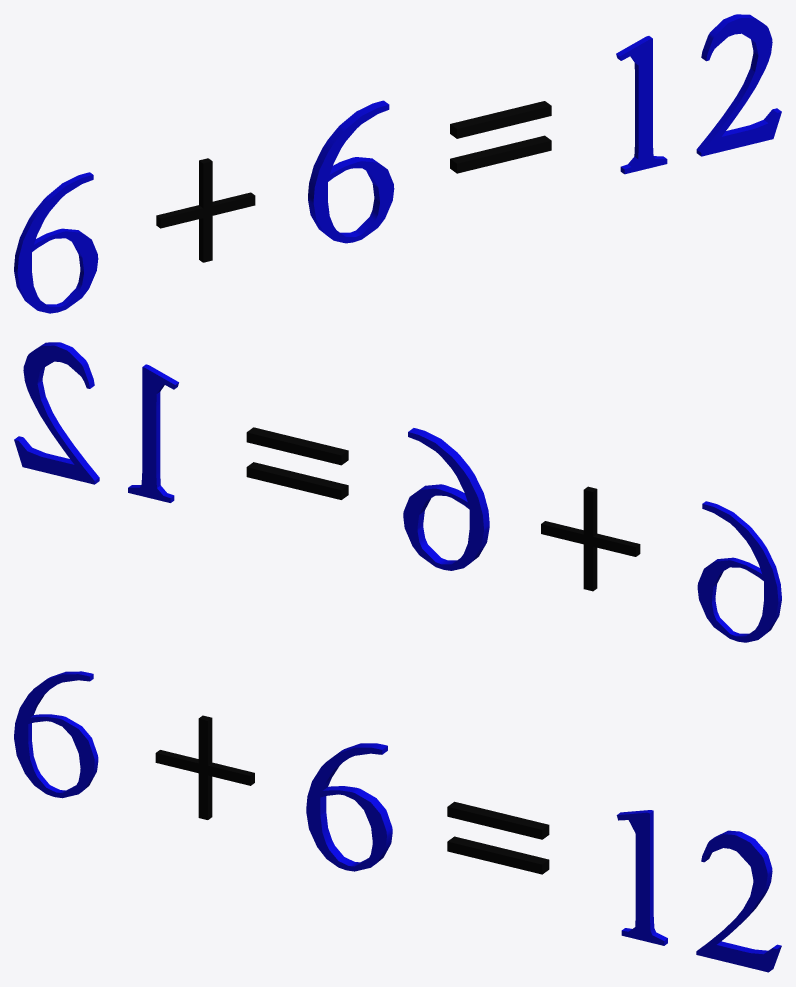
The model's file is carbon12Math.fbx.
3 views of the same model, one above another, from view 1: azimuth 30°, elevation 25°; view 2: azimuth 150°, elevation 25°; view 3: azimuth 330°, elevation 25° (orthographic).
Visible parts, largest first — view 1: Trim_Char_x_9_1, Trim_Char_x_12_1, Trim_Char_x_7_1, Trim_Char_x_10_1, Trim_Char_x_11_1, Trim_Char_x_8_1; view 2: Trim_Char_x_9_1, Trim_Char_x_12_1, Trim_Char_x_7_1, Trim_Char_x_10_1, Trim_Char_x_11_1, Trim_Char_x_8_1; view 3: Trim_Char_x_9_1, Trim_Char_x_7_1, Trim_Char_x_12_1, Trim_Char_x_10_1, Trim_Char_x_11_1, Trim_Char_x_8_1.
Part boxes in pixels (x1=…): Trim_Char_x_9_1: x1=308, y1=100, x2=394, y2=243; Trim_Char_x_12_1: x1=696, y1=14, x2=781, y2=156; Trim_Char_x_7_1: x1=14, y1=172, x2=98, y2=313; Trim_Char_x_10_1: x1=450, y1=101, x2=551, y2=173; Trim_Char_x_11_1: x1=616, y1=36, x2=667, y2=174; Trim_Char_x_8_1: x1=156, y1=158, x2=255, y2=262; Trim_Char_x_9_1: x1=403, y1=428, x2=489, y2=570; Trim_Char_x_12_1: x1=14, y1=342, x2=99, y2=484; Trim_Char_x_7_1: x1=697, y1=501, x2=781, y2=642; Trim_Char_x_10_1: x1=246, y1=427, x2=348, y2=499; Trim_Char_x_11_1: x1=128, y1=364, x2=178, y2=502; Trim_Char_x_8_1: x1=541, y1=486, x2=640, y2=591; Trim_Char_x_9_1: x1=306, y1=743, x2=392, y2=871; Trim_Char_x_7_1: x1=14, y1=671, x2=98, y2=798; Trim_Char_x_12_1: x1=696, y1=830, x2=781, y2=972; Trim_Char_x_10_1: x1=447, y1=801, x2=549, y2=874; Trim_Char_x_11_1: x1=616, y1=810, x2=667, y2=945; Trim_Char_x_8_1: x1=155, y1=715, x2=254, y2=819.
Size of the model in its own units: 0.161 by 0.026 by 0.00254.
